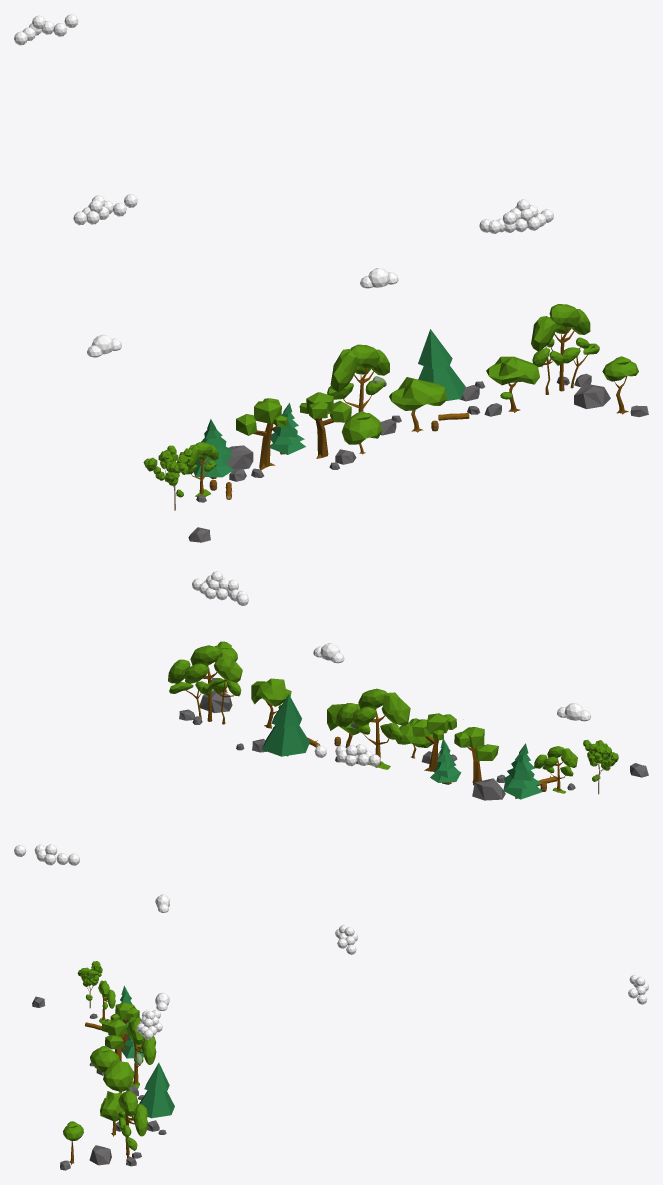
The model's file is trees.fbx.
3 renders of one model, top to bottom at view 1: azimuth 30°, elevation 25°; view 2: azimuth 150°, elevation 25°; view 3: azimuth 270°, elevation 25°, orthographic. The views are drawn at different scales.
Visible parts, largest first — view 1: Low_Poly_N, skpEFB7_1, skp7EEA1, skp4847_1, Componen12, Group6, NUVEM1, skp5771_1, skp3703_1, Group4, NUVEM_1_1, skp665F1 (+4 smaller); view 2: skpEFB7_1, skp7EEA1, Low_Poly_N, skp4847_1, Group4, Componen12, Group6, NUVEM1, skp7EEA_1_, NUVEM_1_1, skp3703_1, NUVEM_2_1 (+4 smaller); view 3: Low_Poly_N, skpEFB7_1, skp4847_1, skp7EEA1, skp5771_1, Group6, NUVEM1, skp665F1, skp3703_1, NUVEM_1_1, Componen12, NUVEM_2_1.
Part boxes in pixels (box(x1,y1,x2,y2)): Low_Poly_N: box(188, 373, 648, 542); skpEFB7_1: box(531, 304, 599, 394); skp7EEA1: box(327, 344, 389, 411); skp4847_1: box(418, 329, 465, 400); Componen12: box(236, 398, 287, 470); Group6: box(299, 392, 351, 458); NUVEM1: box(479, 199, 553, 233); skp5771_1: box(389, 377, 447, 410); skp3703_1: box(486, 356, 539, 399); Group4: box(193, 419, 233, 479); NUVEM_1_1: box(73, 194, 137, 225); skp665F1: box(342, 411, 382, 444); skpEFB7_1: box(168, 645, 242, 724); skp7EEA1: box(336, 688, 410, 769); Low_Poly_N: box(179, 678, 648, 800); skp4847_1: box(262, 694, 309, 756); Group4: box(502, 743, 542, 799); Componen12: box(454, 727, 498, 785); Group6: box(412, 713, 456, 771); NUVEM1: box(192, 571, 248, 605); skp7EEA_1_: box(534, 746, 577, 793); NUVEM_1_1: box(314, 744, 380, 766); skp3703_1: box(251, 678, 291, 708); NUVEM_2_1: box(14, 844, 79, 865); Low_Poly_N: box(32, 996, 166, 1170); skpEFB7_1: box(118, 1090, 147, 1157); skp4847_1: box(139, 1062, 174, 1118); skp7EEA1: box(126, 1017, 156, 1088); skp5771_1: box(103, 1060, 134, 1091); Group6: box(102, 1019, 127, 1061); NUVEM1: box(136, 1010, 162, 1039); skp665F1: box(90, 1046, 119, 1072); skp3703_1: box(100, 1091, 122, 1121); NUVEM_1_1: box(335, 924, 357, 954); Componen12: box(110, 1002, 139, 1049); NUVEM_2_1: box(628, 974, 648, 1004).
Size of the model in its own units: 34711 by 12692 by 52828.
